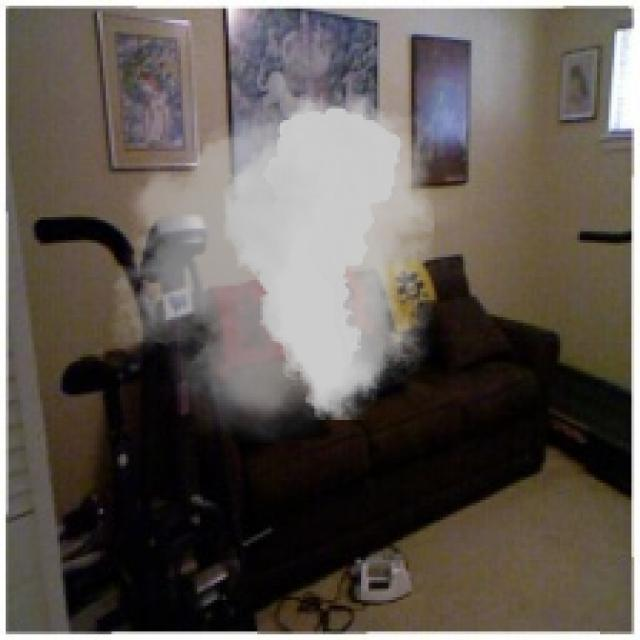smoke: (91, 83, 463, 443)
